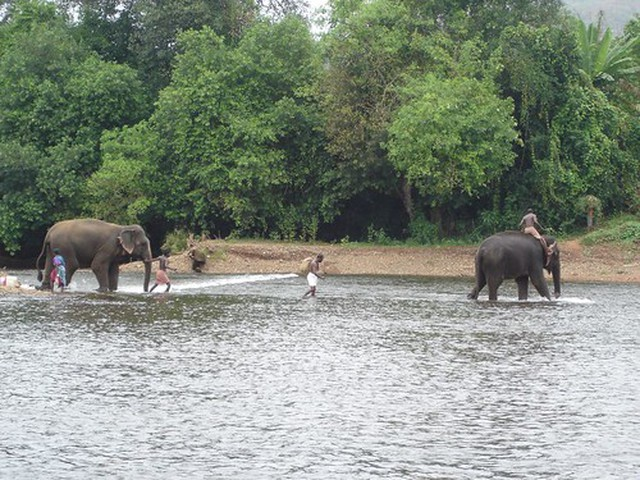Elephant: (457, 229, 568, 303), (38, 215, 153, 286)
Person: (145, 248, 173, 290), (48, 246, 67, 294), (307, 251, 326, 294), (519, 207, 544, 238)
